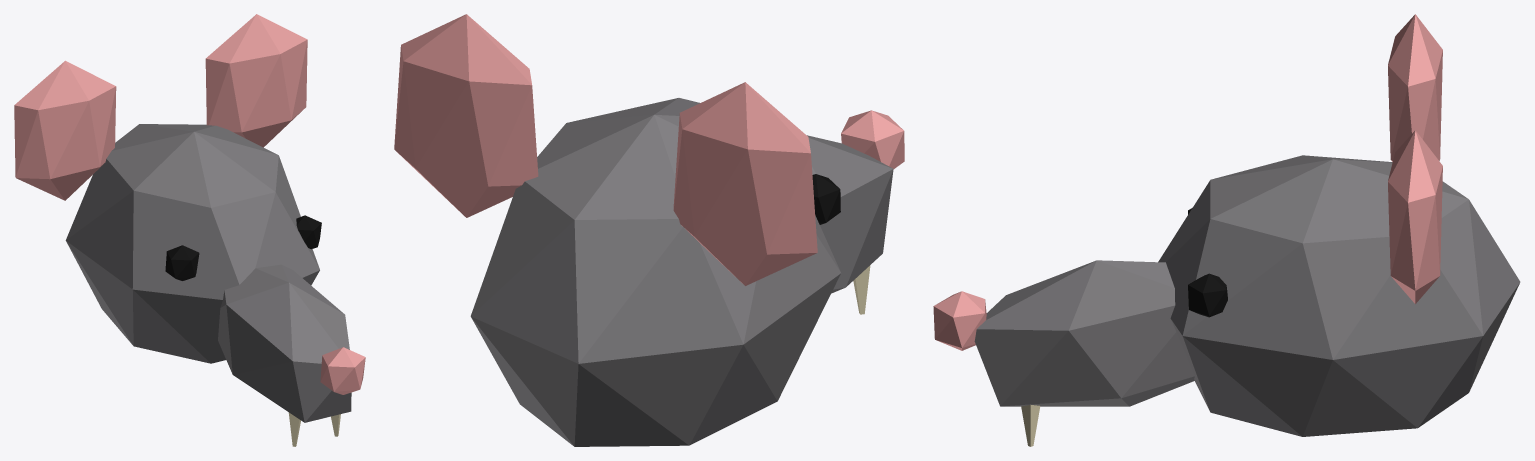
File: rat_1_head.glb
3 views of the same model, side by side, from view 1: azimuth 30°, elevation 25°; view 2: azimuth 150°, elevation 25°; view 3: azimuth 270°, elevation 25° (orthographic). The views are drawn at different scales.
Visible parts, largest first — view 1: rat_1_head; view 2: rat_1_head; view 3: rat_1_head.
Boxes of the visible parts, x1=… form: rat_1_head: x1=14, y1=14, x2=365, y2=446; rat_1_head: x1=394, y1=14, x2=904, y2=446; rat_1_head: x1=933, y1=14, x2=1520, y2=446.
Size of the model in its own units: 0.152 by 0.145 by 0.2136.
